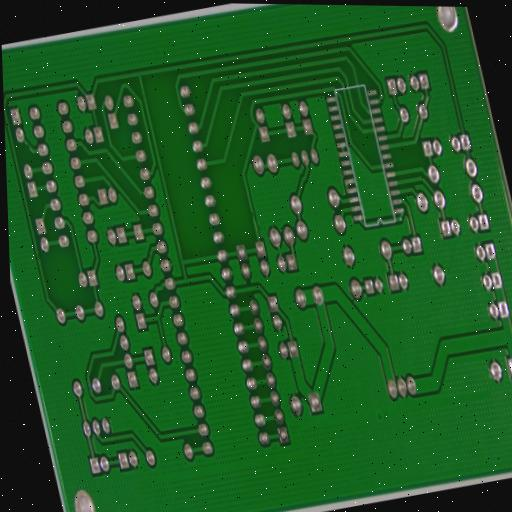mouse_bite: (25, 139, 33, 154), (249, 208, 257, 221), (147, 250, 154, 261)
